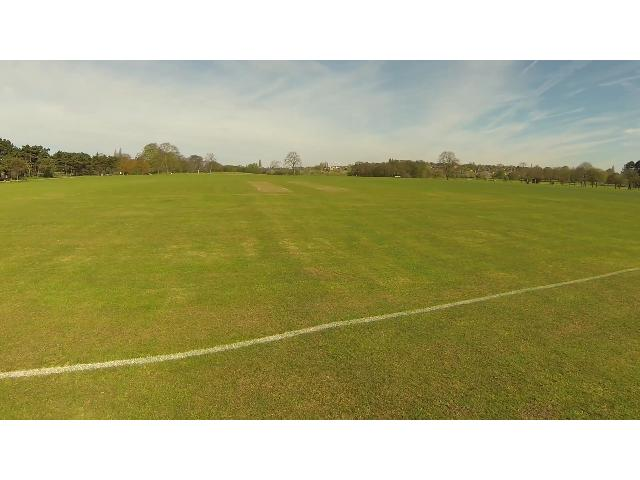Anti-Drone: (330, 160, 342, 166)
